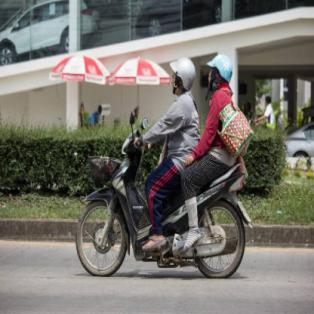Motocicleta: (75, 126, 250, 281)
